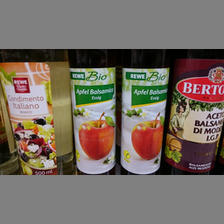vinegar: (1, 49, 78, 175), (167, 50, 220, 175), (69, 49, 119, 175), (121, 50, 168, 175)
